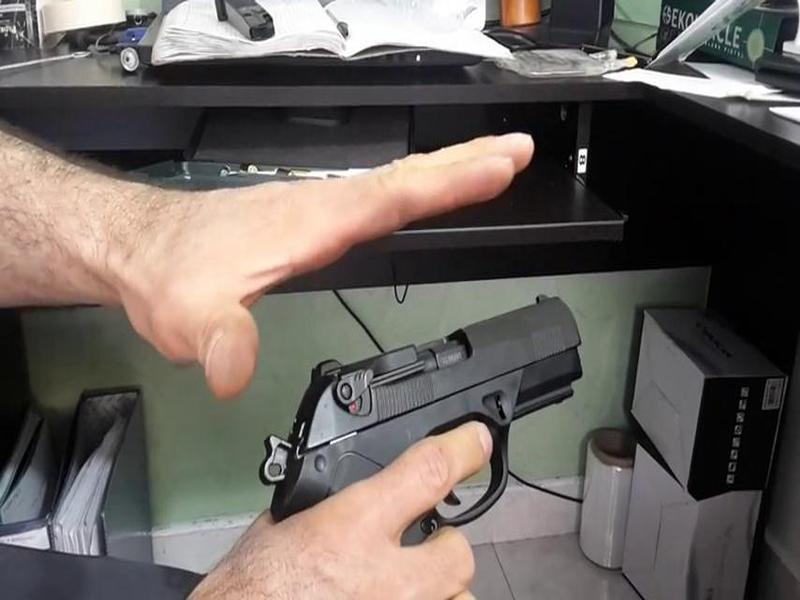Pistola: (250, 291, 586, 538)
